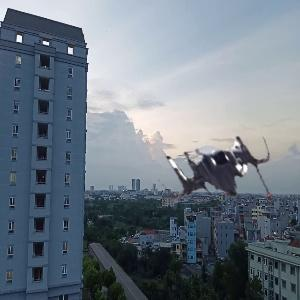drone: (158, 109, 279, 230)
